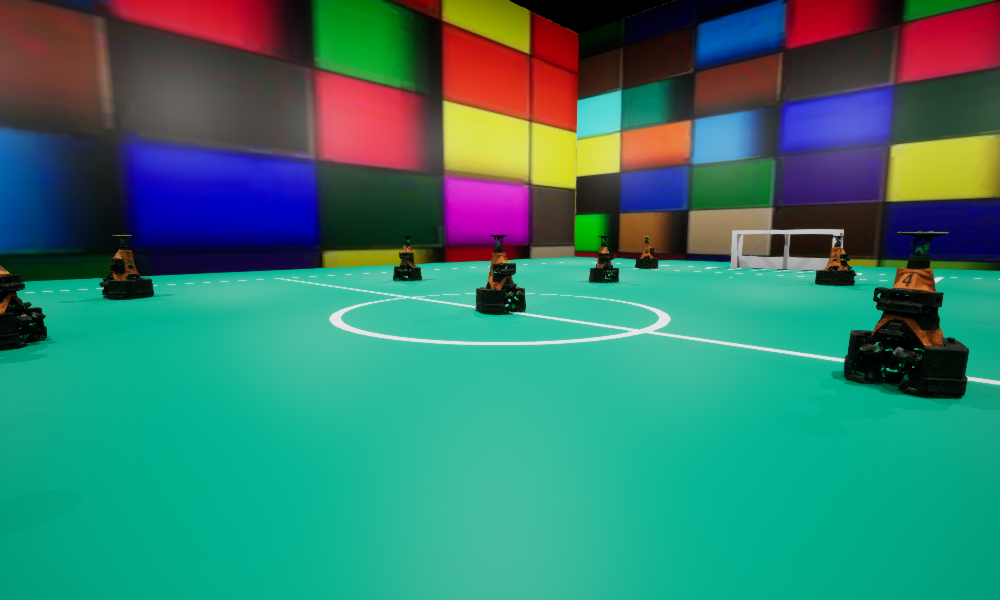o: (844, 231, 968, 396), (0, 234, 46, 350), (476, 234, 525, 314), (99, 235, 153, 298), (815, 236, 856, 285), (589, 236, 618, 282), (393, 236, 421, 280), (635, 236, 657, 268)
